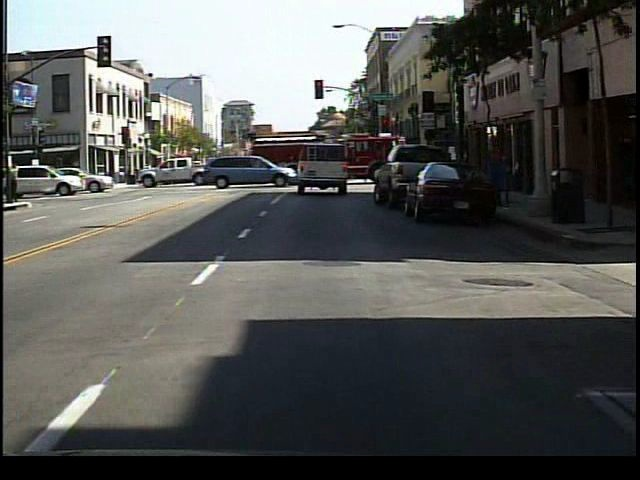person: (11, 161, 24, 207)
